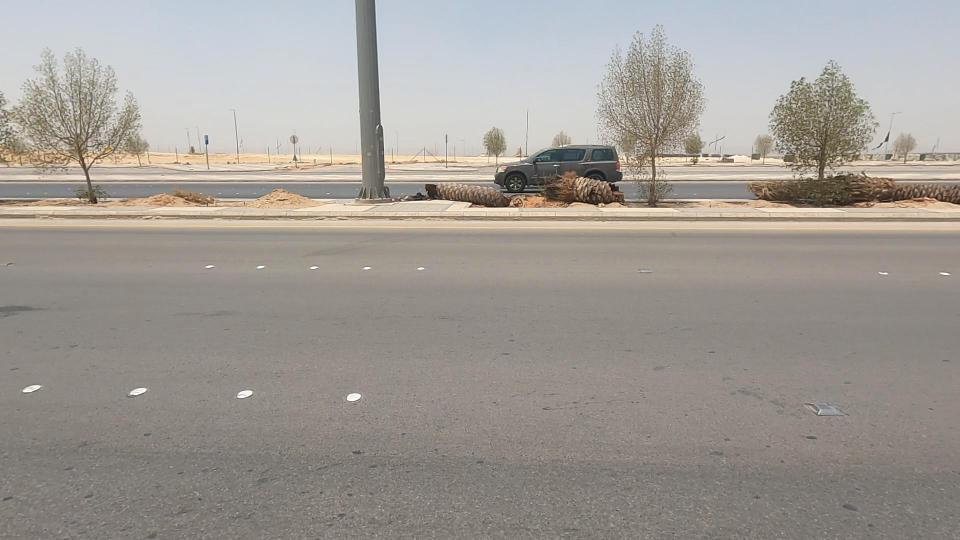SAND_ON_ROAD: (122, 168, 218, 239), (246, 182, 332, 219)
